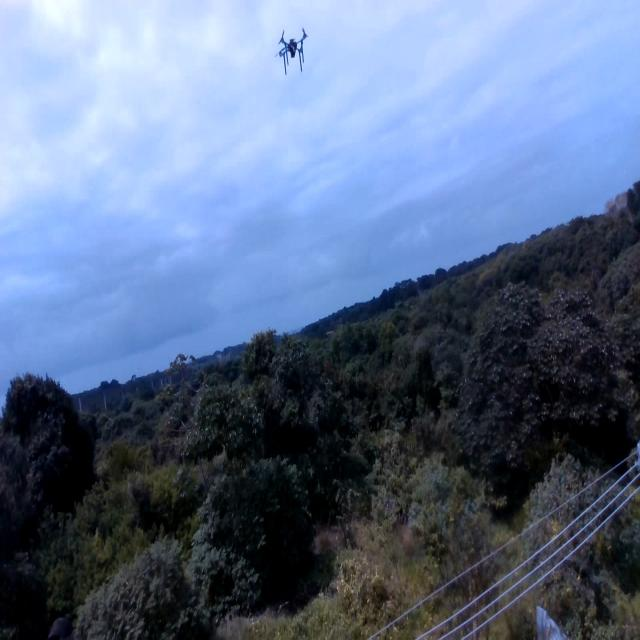-uav-: (276, 26, 316, 78)
